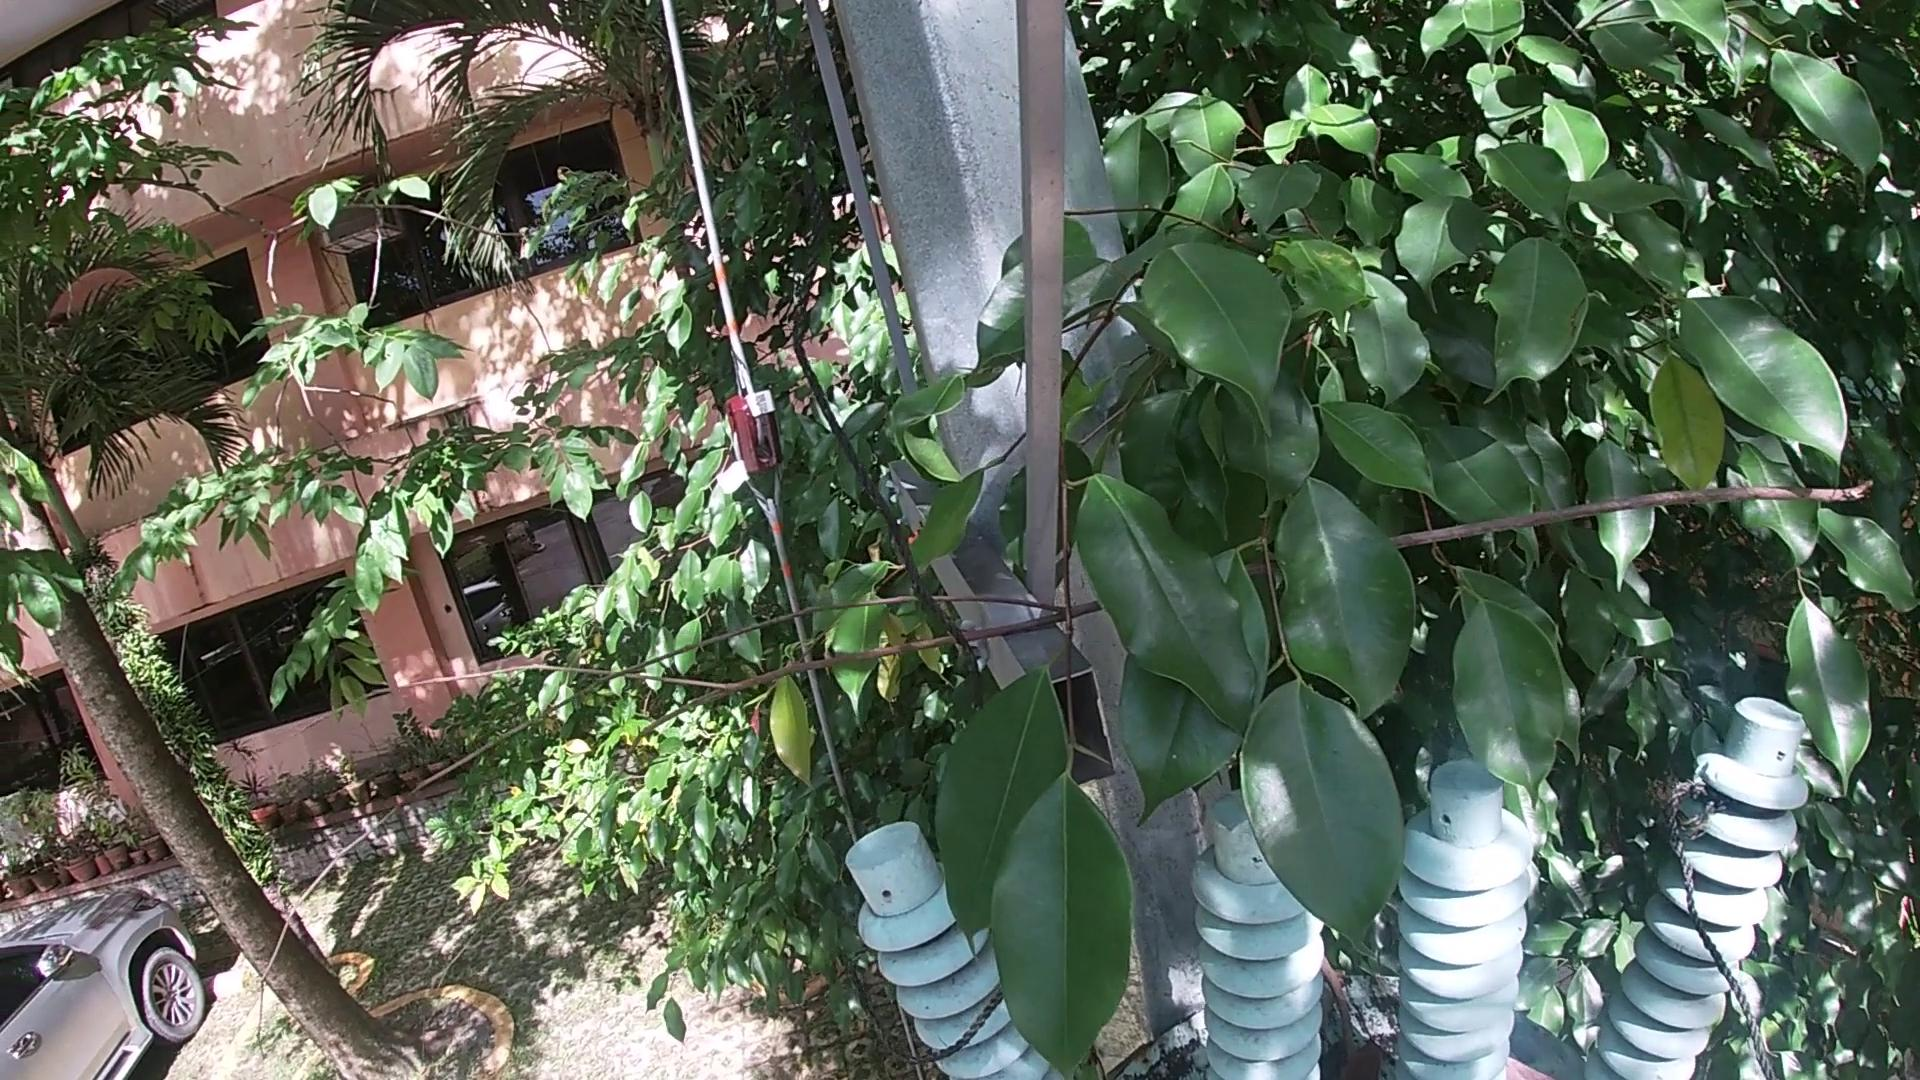mahogany fruit: (1341, 1033, 1394, 1080)
tree branch: (187, 464, 1891, 1048), (1317, 953, 1356, 1054), (1323, 965, 1356, 1042)
